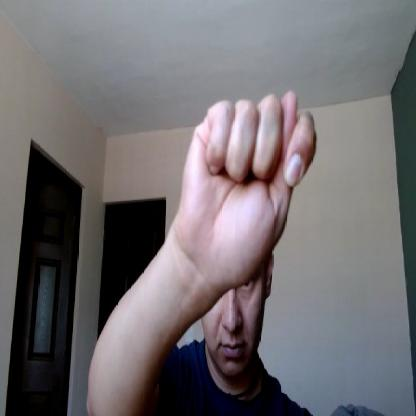T: (177, 88, 318, 287)
